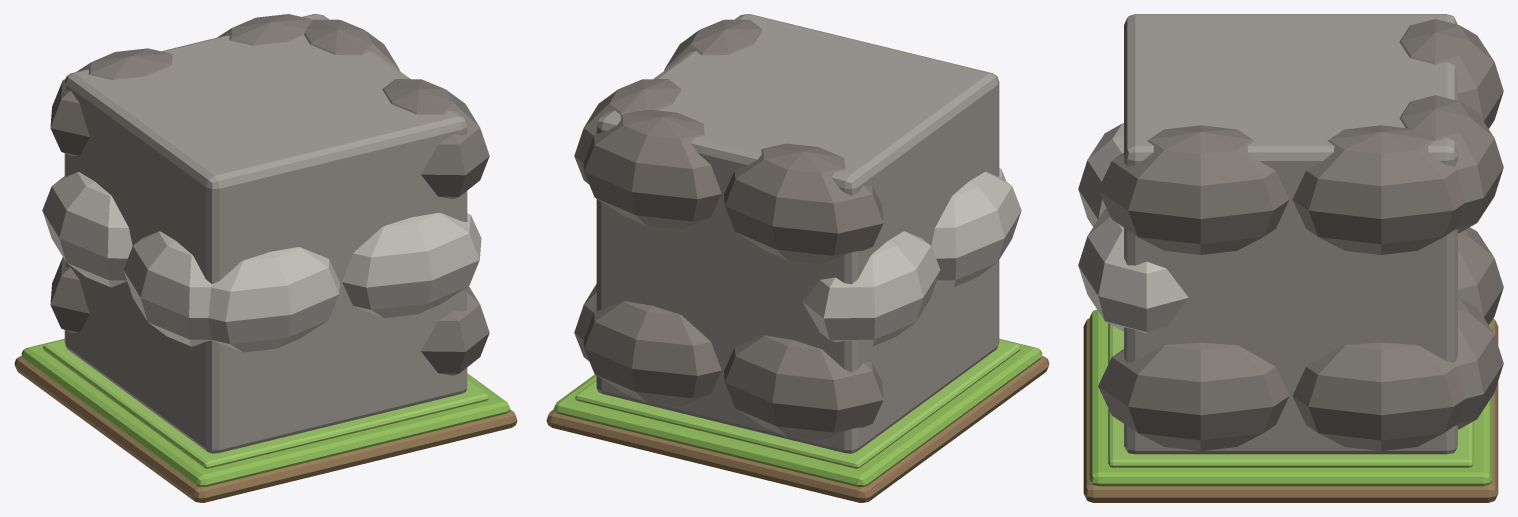
The model's file is wall_lv2.glb.
3 views of the same model, side by side, from view 1: azimuth 30°, elevation 25°; view 2: azimuth 150°, elevation 25°; view 3: azimuth 270°, elevation 25° (orthographic). The views are drawn at different scales.
Visible parts, largest first — view 1: StoneCore, CobbleFB_1_1, CobbleFB_1_-1, Base_Grass, Base_Dirt, CobbleLR_1_-1, CobbleLR_1_1, Base_Inner, CobbleLR_2_-1, CobbleFB_2_-1, CobbleLR_0_-1, CobbleLR_2_1 (+2 smaller); view 2: StoneCore, CobbleFB_2_-1, CobbleFB_2_1, CobbleFB_0_-1, CobbleFB_0_1, Base_Grass, CobbleLR_1_1, Base_Dirt, CobbleLR_1_-1, Base_Inner, CobbleLR_2_1, CobbleLR_2_-1 (+1 smaller); view 3: StoneCore, CobbleLR_2_-1, CobbleLR_2_1, CobbleLR_0_-1, CobbleLR_0_1, Base_Grass, Base_Dirt, CobbleFB_1_1, Base_Inner, CobbleFB_2_1, CobbleFB_2_-1, CobbleFB_0_1 (+2 smaller).
Part boxes in pixels (x1=…): StoneCore: x1=64, y1=14, x2=467, y2=453; CobbleFB_1_1: x1=342, y1=212, x2=481, y2=317; CobbleFB_1_-1: x1=208, y1=247, x2=339, y2=352; Base_Grass: x1=21, y1=338, x2=510, y2=487; Base_Dirt: x1=14, y1=356, x2=517, y2=502; CobbleLR_1_-1: x1=123, y1=231, x2=211, y2=346; CobbleLR_1_1: x1=42, y1=171, x2=132, y2=287; Base_Inner: x1=43, y1=340, x2=488, y2=468; CobbleLR_2_-1: x1=382, y1=79, x2=489, y2=198; CobbleFB_2_-1: x1=50, y1=48, x2=172, y2=155; CobbleLR_0_-1: x1=421, y1=286, x2=489, y2=375; CobbleLR_2_1: x1=304, y1=19, x2=399, y2=70; StoneCore: x1=596, y1=14, x2=999, y2=453; CobbleFB_2_-1: x1=724, y1=143, x2=883, y2=263; CobbleFB_2_1: x1=583, y1=110, x2=721, y2=229; CobbleFB_0_-1: x1=724, y1=335, x2=883, y2=440; CobbleFB_0_1: x1=583, y1=301, x2=721, y2=406; Base_Grass: x1=553, y1=338, x2=1042, y2=487; CobbleLR_1_1: x1=803, y1=231, x2=940, y2=346; Base_Dirt: x1=546, y1=356, x2=1049, y2=502; CobbleLR_1_-1: x1=931, y1=171, x2=1021, y2=287; Base_Inner: x1=575, y1=340, x2=1020, y2=468; CobbleLR_2_1: x1=574, y1=79, x2=681, y2=184; CobbleLR_2_-1: x1=664, y1=19, x2=762, y2=70; StoneCore: x1=1124, y1=14, x2=1457, y2=454; CobbleLR_2_-1: x1=1098, y1=125, x2=1289, y2=254; CobbleLR_2_1: x1=1292, y1=125, x2=1465, y2=254; CobbleLR_0_-1: x1=1098, y1=342, x2=1289, y2=451; CobbleLR_0_1: x1=1292, y1=342, x2=1465, y2=451; Base_Grass: x1=1089, y1=309, x2=1492, y2=486; Base_Dirt: x1=1083, y1=318, x2=1498, y2=502; CobbleFB_1_1: x1=1078, y1=208, x2=1188, y2=333; Base_Inner: x1=1108, y1=323, x2=1473, y2=467; CobbleFB_2_1: x1=1399, y1=95, x2=1503, y2=233; CobbleFB_2_-1: x1=1399, y1=19, x2=1503, y2=128; CobbleFB_0_1: x1=1454, y1=297, x2=1503, y2=429.
Bounding box in the file's own units: 0.944 × 0.8525 × 0.944.
